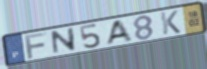5: (78, 22, 102, 50)
8: (133, 14, 155, 41)
A: (103, 18, 134, 47)
F: (23, 31, 49, 60)
K: (159, 9, 182, 36)
N: (50, 26, 78, 56)
